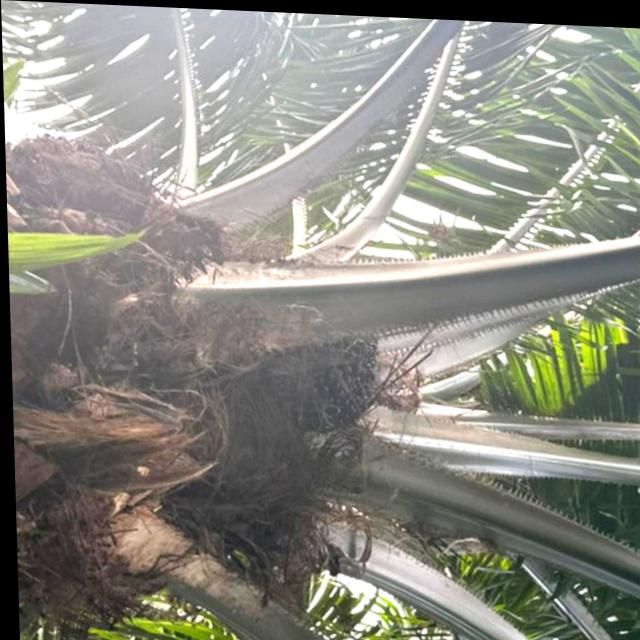unripe: (267, 322, 379, 437)
